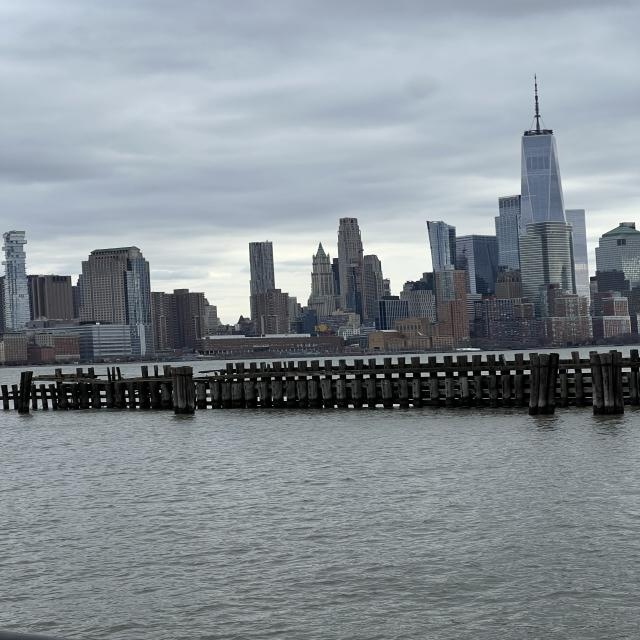WTC: (520, 74, 566, 223)
